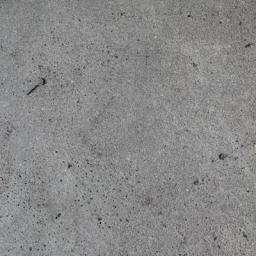FOD: (27, 77, 48, 99)
